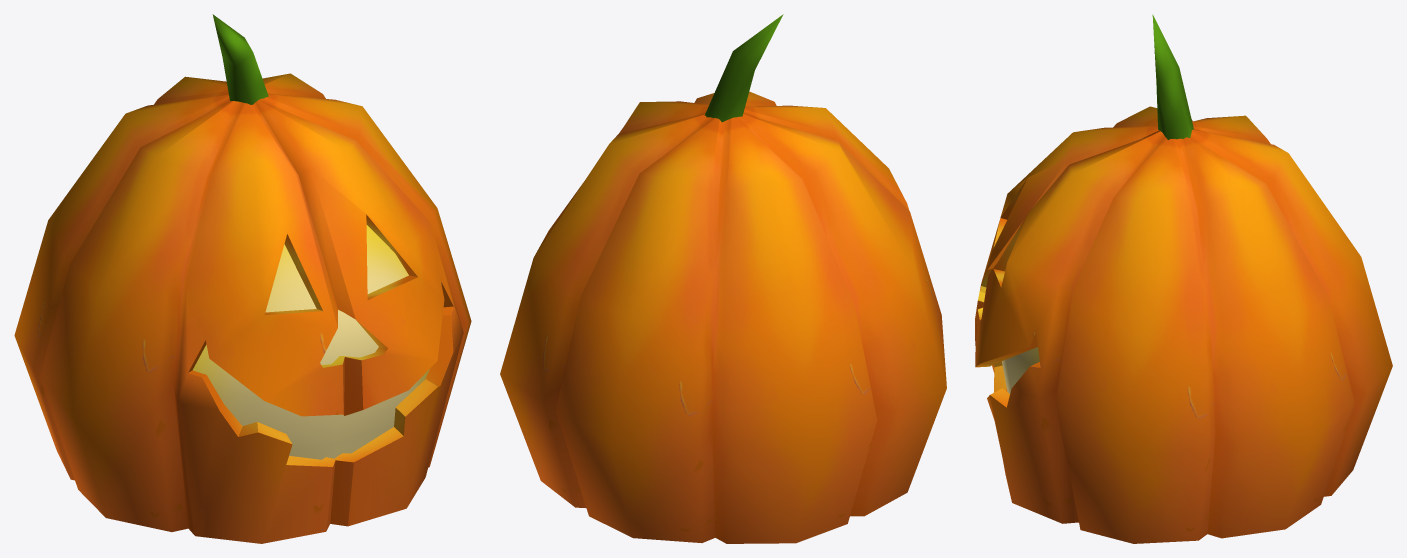
File: Decor_Pumpkin_1.FBX
3 views of the same model, side by side, from view 1: azimuth 30°, elevation 25°; view 2: azimuth 150°, elevation 25°; view 3: azimuth 270°, elevation 25° (orthographic). The views are drawn at different scales.
Visible parts, largest first — view 1: Decor_Pumpkin1_mod; view 2: Decor_Pumpkin1_mod; view 3: Decor_Pumpkin1_mod.
Boxes of the visible parts, x1,y1,x2,y2 form: Decor_Pumpkin1_mod: (14,14,471,543); Decor_Pumpkin1_mod: (500,14,946,543); Decor_Pumpkin1_mod: (975,14,1392,543).
Bounding box in the file's own units: 0.8351 × 0.9415 × 0.8193.
